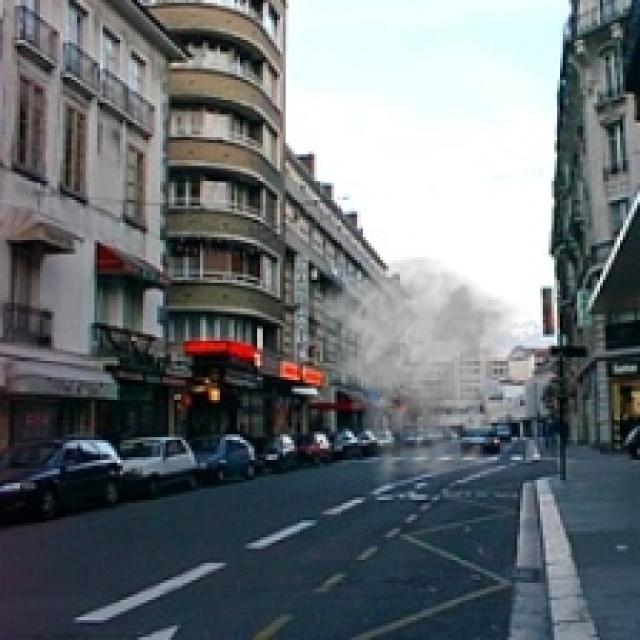smoke: (303, 255, 534, 494)
